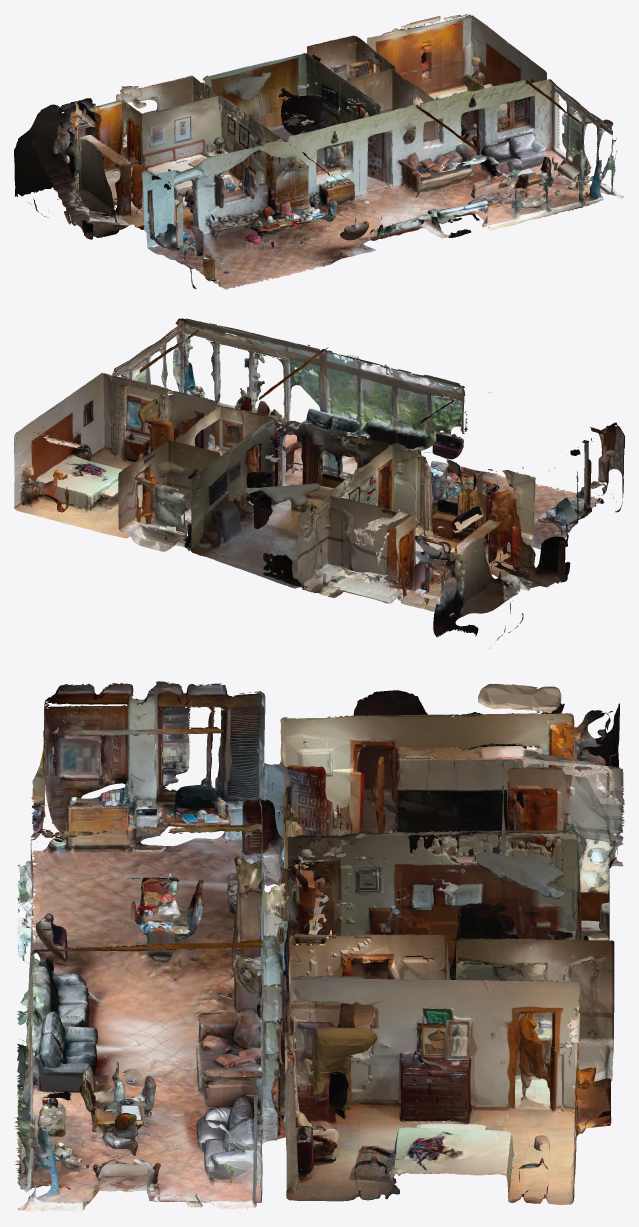
Rendered from esc_baja_muros_00.glb.
The picture shows the model from 3 angles, top to bottom: view 1: azimuth 30°, elevation 25°; view 2: azimuth 150°, elevation 25°; view 3: azimuth 270°, elevation 25°; orthographic projection. The views are drawn at different scales.
Visible parts, largest first — view 1: muros_Inicial_habitaciones_0_GLTF_7, muros_Inicial_habitaciones_0_GLTF_6, muros_Inicial_habitaciones_0_GLTF_8, muros_Inicial_habitaciones_0_GLTF_10, muros_Inicial_habitaciones_0_GLTF_9, muros_Inicial_habitaciones_0_GLTF_3, muros_Inicial_habitaciones_0_GLTF_2, muros_Inicial_habitaciones_0_GLTF_4, muros_Inicial_habitaciones_0_GLTF_5, muros_Inicial_habitaciones_0_GLTF, muros_Inicial_habitaciones_0_GLTF_1; view 2: muros_Inicial_habitaciones_0_GLTF_9, muros_Inicial_habitaciones_0_GLTF_10, muros_Inicial_habitaciones_0_GLTF_7, muros_Inicial_habitaciones_0_GLTF_5, muros_Inicial_habitaciones_0_GLTF, muros_Inicial_habitaciones_0_GLTF_1, muros_Inicial_habitaciones_0_GLTF_8, muros_Inicial_habitaciones_0_GLTF_2, muros_Inicial_habitaciones_0_GLTF_6, muros_Inicial_habitaciones_0_GLTF_4, muros_Inicial_habitaciones_0_GLTF_3; view 3: muros_Inicial_habitaciones_0_GLTF_9, muros_Inicial_habitaciones_0_GLTF_6, muros_Inicial_habitaciones_0_GLTF_8, muros_Inicial_habitaciones_0_GLTF_2, muros_Inicial_habitaciones_0_GLTF_10, muros_Inicial_habitaciones_0_GLTF_7, muros_Inicial_habitaciones_0_GLTF_3, muros_Inicial_habitaciones_0_GLTF, muros_Inicial_habitaciones_0_GLTF_1, muros_Inicial_habitaciones_0_GLTF_5, muros_Inicial_habitaciones_0_GLTF_4.
Boxes of the visible parts, x1,y1,x2,y2 form: muros_Inicial_habitaciones_0_GLTF_7: (60,14,604,273); muros_Inicial_habitaciones_0_GLTF_6: (33,25,615,289); muros_Inicial_habitaciones_0_GLTF_8: (14,17,610,273); muros_Inicial_habitaciones_0_GLTF_10: (52,16,624,269); muros_Inicial_habitaciones_0_GLTF_9: (31,45,615,288); muros_Inicial_habitaciones_0_GLTF_3: (65,18,613,265); muros_Inicial_habitaciones_0_GLTF_2: (63,15,616,261); muros_Inicial_habitaciones_0_GLTF_4: (14,55,591,237); muros_Inicial_habitaciones_0_GLTF_5: (57,45,580,286); muros_Inicial_habitaciones_0_GLTF: (22,18,622,280); muros_Inicial_habitaciones_0_GLTF_1: (38,46,616,256); muros_Inicial_habitaciones_0_GLTF_9: (57,343,623,637); muros_Inicial_habitaciones_0_GLTF_10: (22,333,584,631); muros_Inicial_habitaciones_0_GLTF_7: (14,318,608,606); muros_Inicial_habitaciones_0_GLTF_5: (22,329,576,602); muros_Inicial_habitaciones_0_GLTF: (23,356,622,611); muros_Inicial_habitaciones_0_GLTF_1: (25,324,624,613); muros_Inicial_habitaciones_0_GLTF_8: (14,358,623,640); muros_Inicial_habitaciones_0_GLTF_2: (20,323,589,619); muros_Inicial_habitaciones_0_GLTF_6: (45,333,624,632); muros_Inicial_habitaciones_0_GLTF_4: (14,329,584,636); muros_Inicial_habitaciones_0_GLTF_3: (33,318,587,596); muros_Inicial_habitaciones_0_GLTF_9: (17,681,624,1201); muros_Inicial_habitaciones_0_GLTF_6: (15,684,619,1209); muros_Inicial_habitaciones_0_GLTF_8: (16,689,618,1212); muros_Inicial_habitaciones_0_GLTF_2: (17,710,607,1204); muros_Inicial_habitaciones_0_GLTF_10: (17,707,623,1212); muros_Inicial_habitaciones_0_GLTF_7: (17,714,609,1207); muros_Inicial_habitaciones_0_GLTF_3: (17,690,624,1207); muros_Inicial_habitaciones_0_GLTF: (17,684,619,1204); muros_Inicial_habitaciones_0_GLTF_1: (17,683,611,1178); muros_Inicial_habitaciones_0_GLTF_5: (17,713,618,1196); muros_Inicial_habitaciones_0_GLTF_4: (14,694,618,1204).
Size of the model in its own units: 17.98 by 3.76 by 11.3.
Materials: 11 (11 with a texture image).
